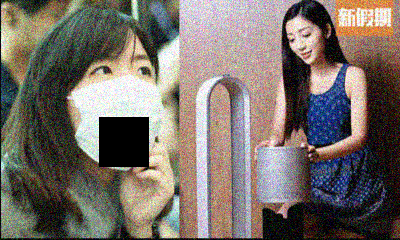with_mask: (68, 51, 165, 172)
without_mask: (284, 23, 327, 67)
